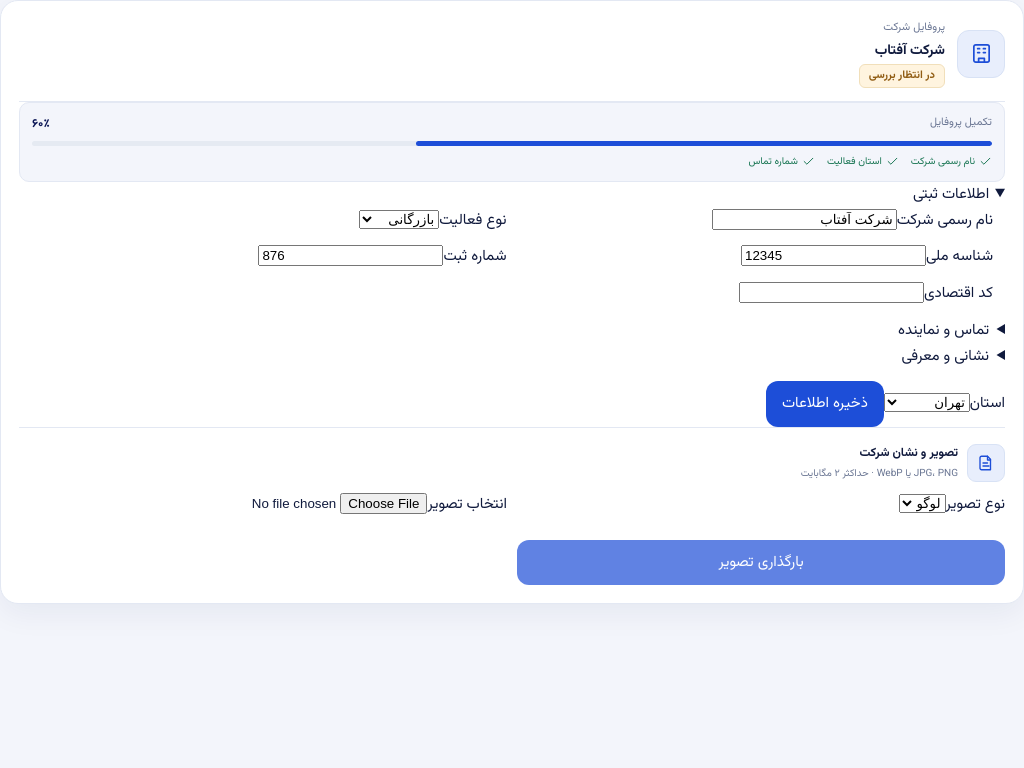
Test: ProfilePanel › edits a company profile and uploads a replacement image
The width and height of the screenshot is (1024, 768).
Later steps or results of the test are not shown.
Expected: the text "شرکت آفتاب" is shown, [875,40,945,62]
Expected: the text "در انتظار بررسی" is shown, [859,64,945,88]
Click the heading "تماس و نماینده" at (944, 331), box [898,320,989,342]
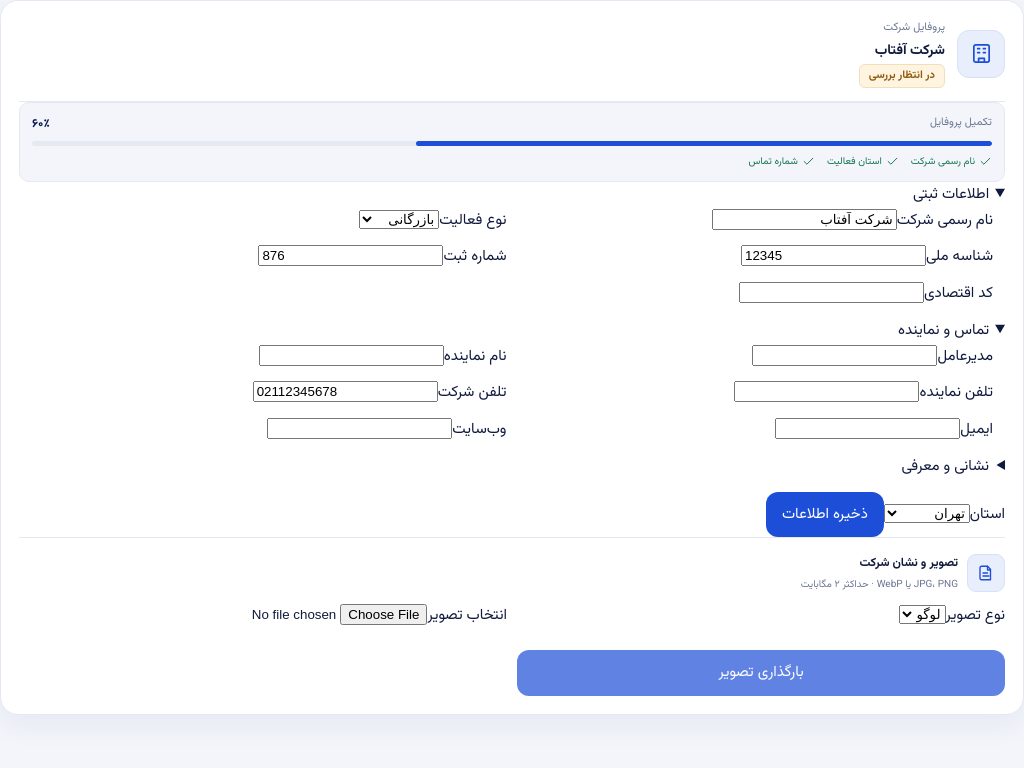
Replace the text in the field labelled "تلفن شرکت" with "02199887766" at (345, 392), box [253,382,438,402]
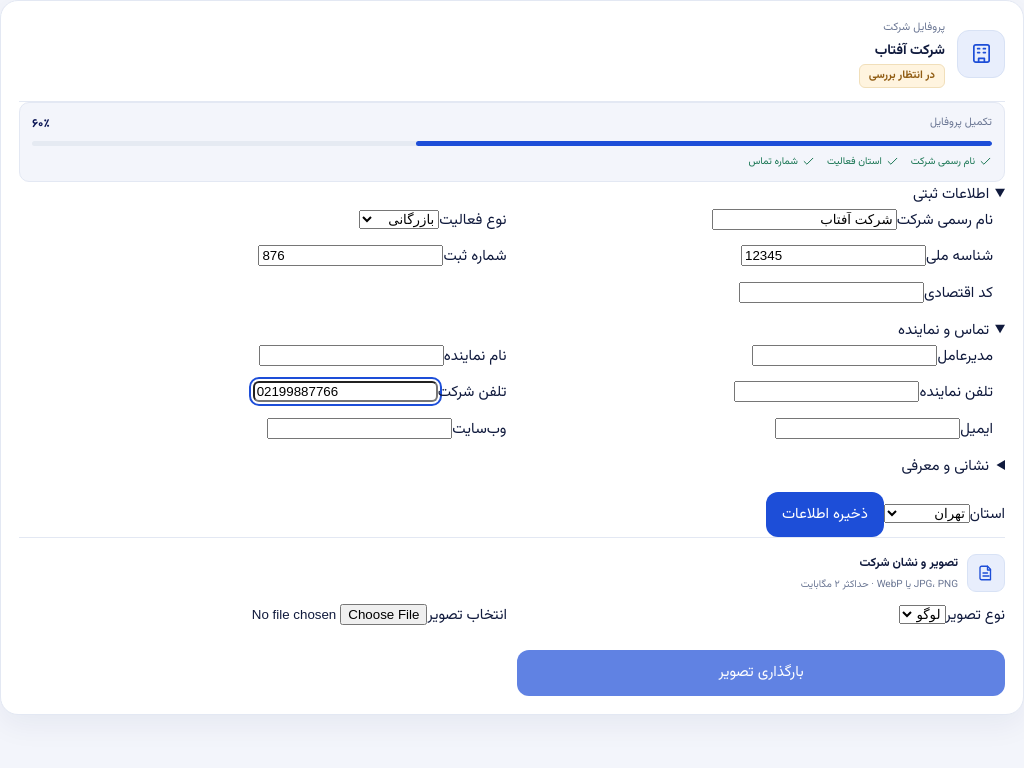
Click the button "ذخیره اطلاعات" at (825, 515), box [766,492,884,538]
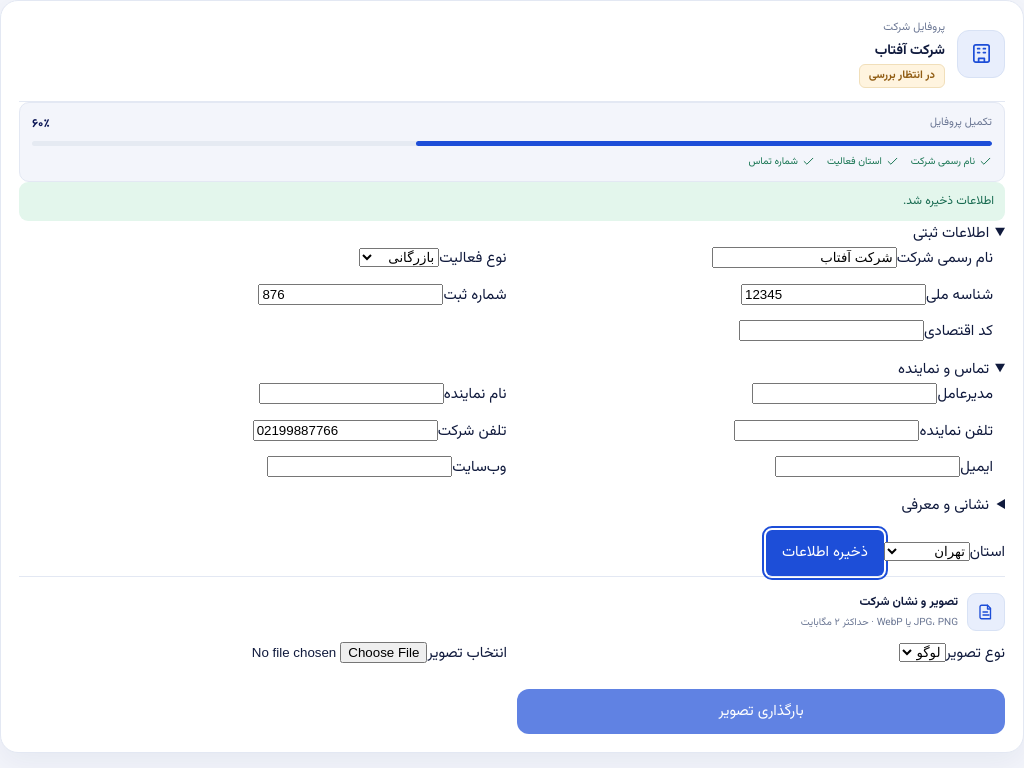
Now the text "اطلاعات ذخیره شد." is shown, box [19,182,1005,221]
